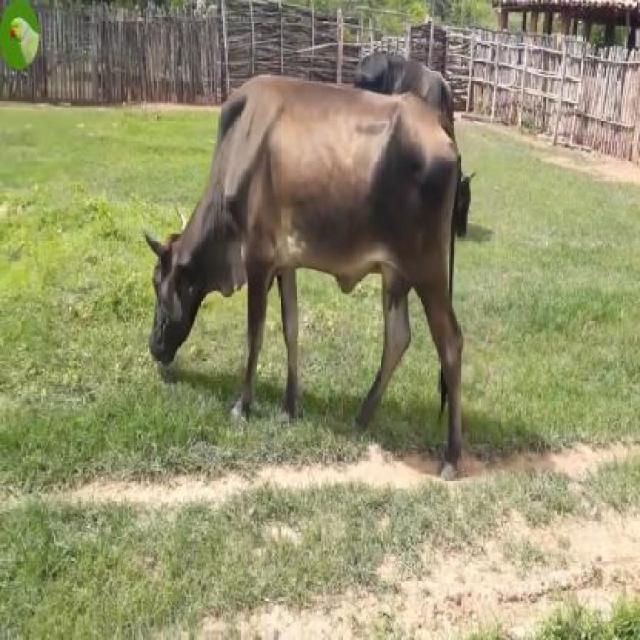Cow: (149, 74, 462, 449)
